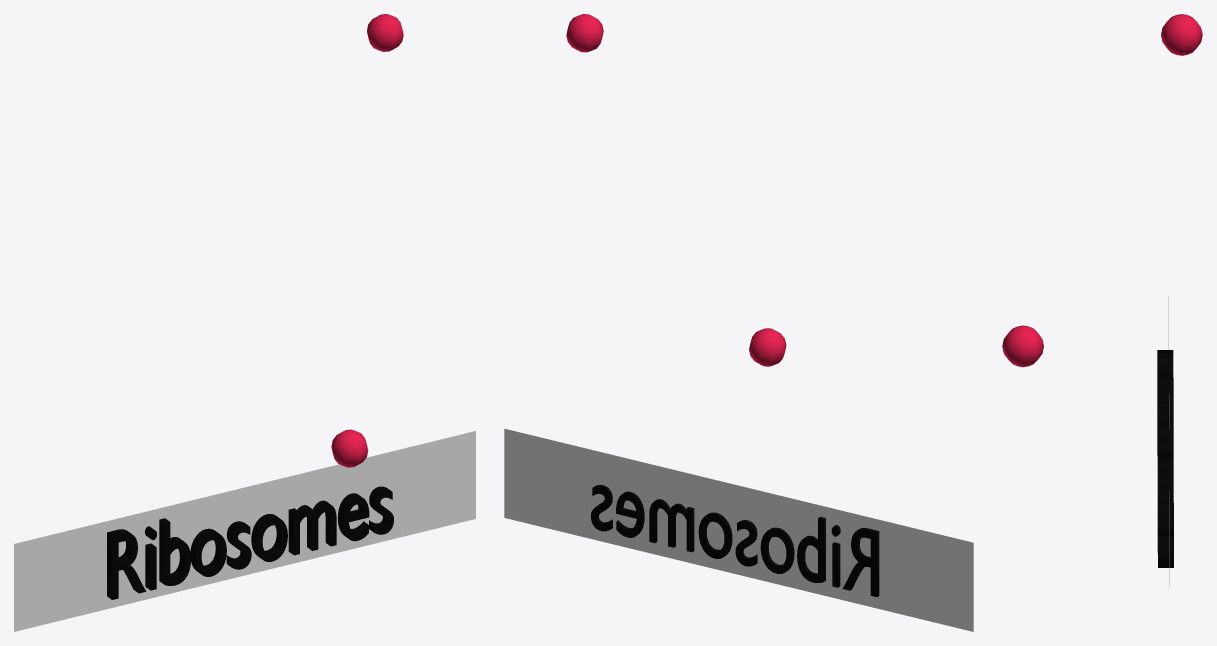
Rendered from ribosomes.gltf.
3 views of the same model, side by side, from view 1: azimuth 30°, elevation 25°; view 2: azimuth 150°, elevation 25°; view 3: azimuth 270°, elevation 25° (orthographic). The views are drawn at different scales.
Visible parts, largest first — view 1: Plane.011, Text.014, Piedras_Rojas; view 2: Plane.011, Text.014, Piedras_Rojas; view 3: Text.014, Piedras_Rojas.
Part boxes in pixels (<box>): Plane.011: <box>14,431,475,631</box>; Text.014: <box>107,486,393,599</box>; Piedras_Rojas: <box>331,14,403,467</box>; Plane.011: <box>504,428,973,631</box>; Text.014: <box>591,485,879,597</box>; Piedras_Rojas: <box>566,14,786,366</box>; Text.014: <box>1157,350,1173,567</box>; Piedras_Rojas: <box>1002,14,1202,367</box>.
Bounding box in the file's own units: 1.33 × 1.43 × 0.4573.
